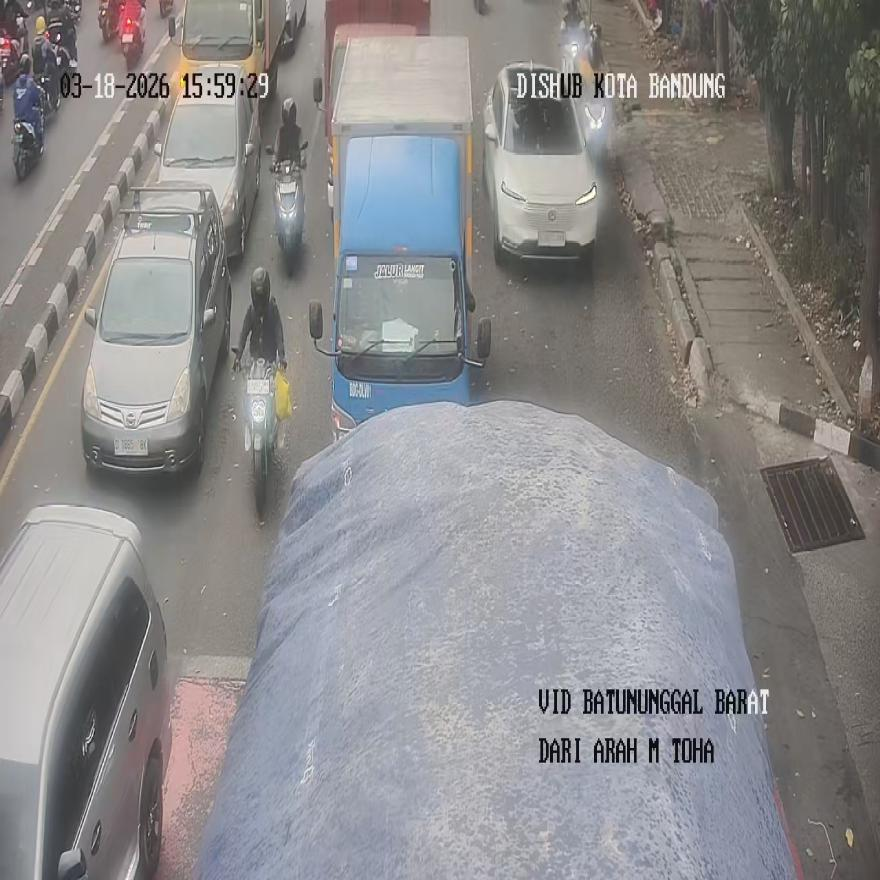Motor: (309, 37, 491, 441), (0, 505, 171, 878), (80, 185, 230, 474), (314, 0, 430, 219), (483, 61, 598, 268), (154, 61, 259, 262), (169, 0, 277, 106)
Truk: (232, 347, 286, 515), (561, 22, 612, 165), (267, 142, 306, 270), (11, 107, 43, 180), (44, 1, 78, 66), (557, 0, 589, 68), (119, 1, 146, 72), (97, 0, 119, 40), (158, 0, 173, 18)
